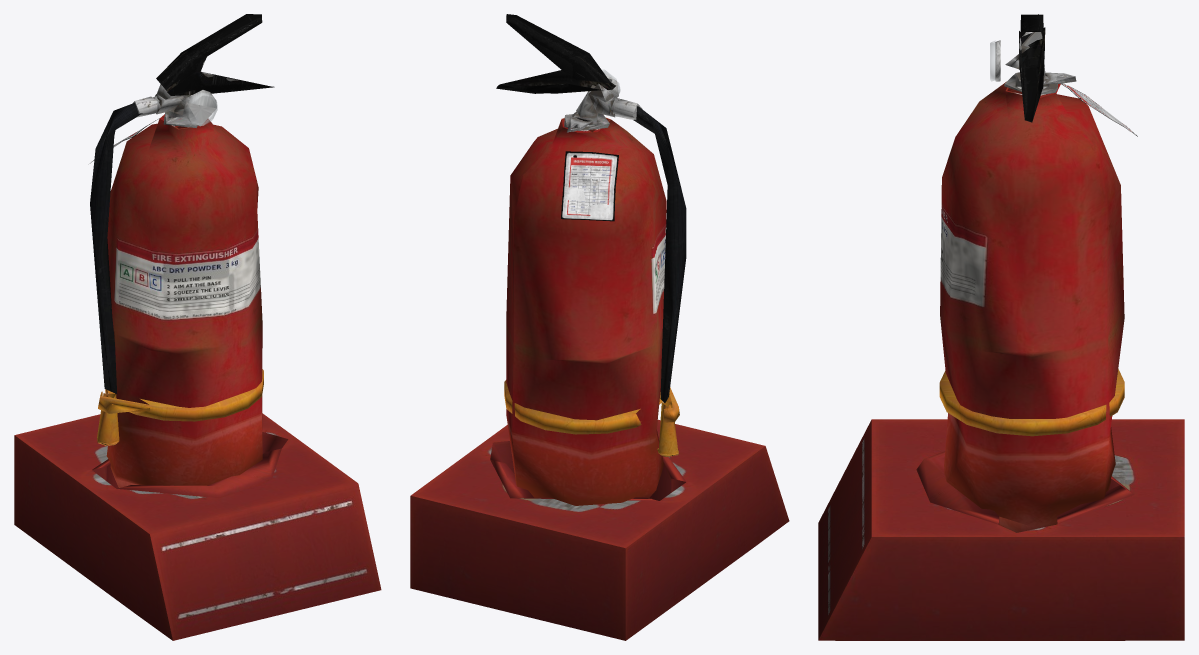
The model's file is FireExtinguisher_LOD2.obj.
The picture shows the model from 3 angles, left to right: view 1: azimuth 30°, elevation 25°; view 2: azimuth 150°, elevation 25°; view 3: azimuth 270°, elevation 25°; orthographic projection. The views are drawn at different scales.
Parts seen in each view (by area): view 1: Body, GaugeGlass; view 2: Body, Tag; view 3: Body.
Part boxes in pixels (x1,y1,x2,y2): Body: [14, 14, 381, 640]; GaugeGlass: [185, 92, 217, 125]; Body: [410, 14, 789, 640]; Tag: [561, 151, 618, 221]; Body: [818, 14, 1184, 640].
Size of the model in its own units: 0.28 by 0.6591 by 0.3674.
3 materials, 2 textured.
